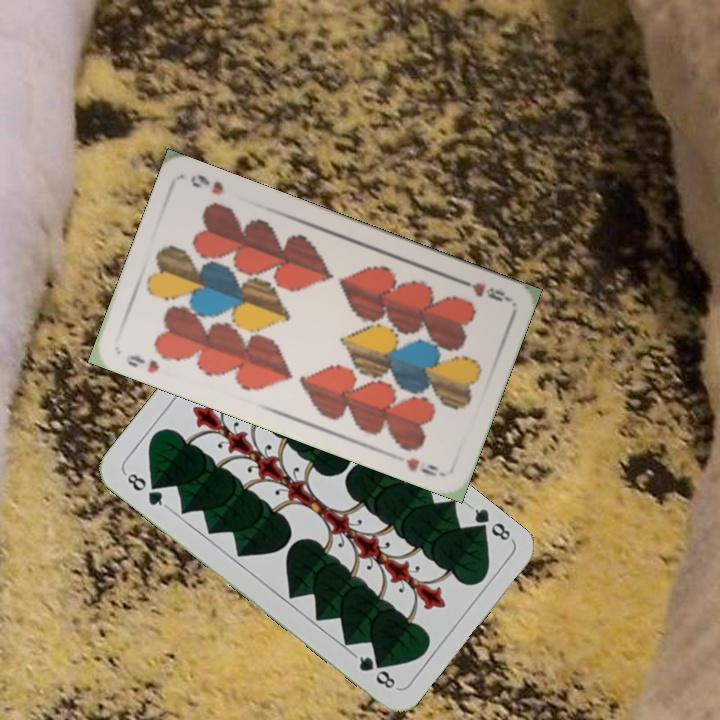G8: (465, 501, 515, 544), (121, 468, 171, 510)
H9: (454, 274, 511, 305), (122, 350, 162, 377)
